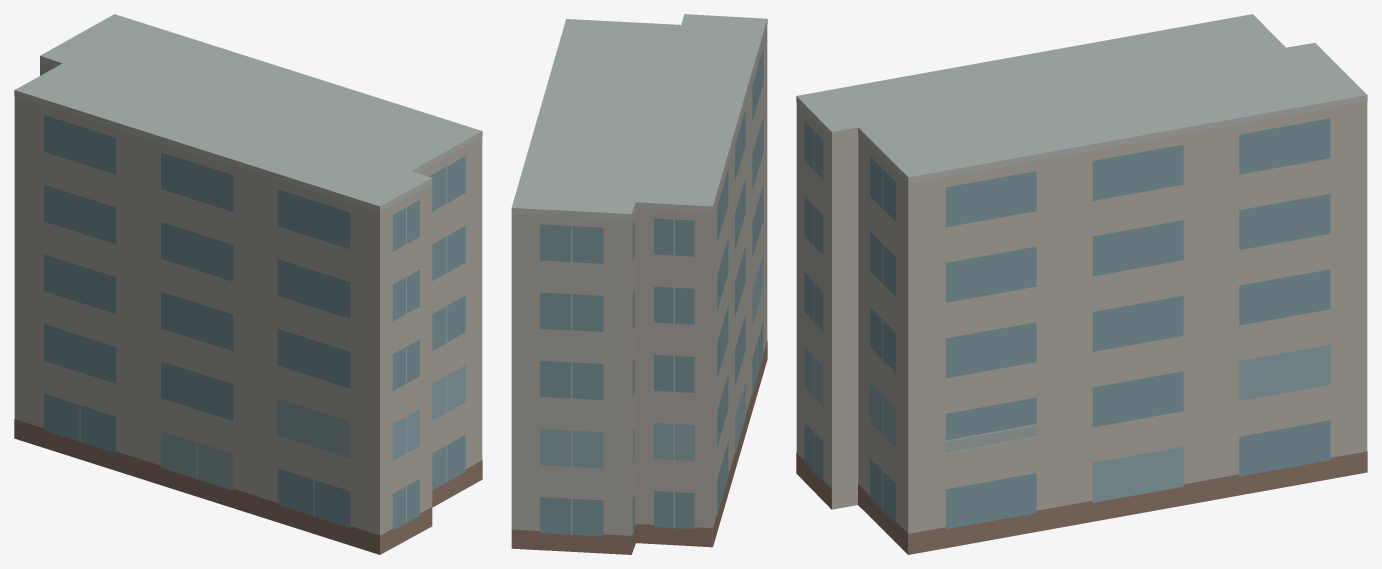
Rendered from survey-upis-33002404.glb.
3 views of the same model, side by side, from view 1: azimuth 30°, elevation 25°; view 2: azimuth 150°, elevation 25°; view 3: azimuth 270°, elevation 25° (orthographic). The views are drawn at different scales.
Parts seen in each view (by area): view 1: survey-upis-33002404.tmp; view 2: survey-upis-33002404.tmp; view 3: survey-upis-33002404.tmp.
Boxes of the visible parts, x1,y1,x2,y2 form: survey-upis-33002404.tmp: [14, 14, 482, 554]; survey-upis-33002404.tmp: [511, 14, 767, 554]; survey-upis-33002404.tmp: [796, 14, 1367, 554].
Bounding box in the file's own units: 13.56 × 14.6 × 20.02.
